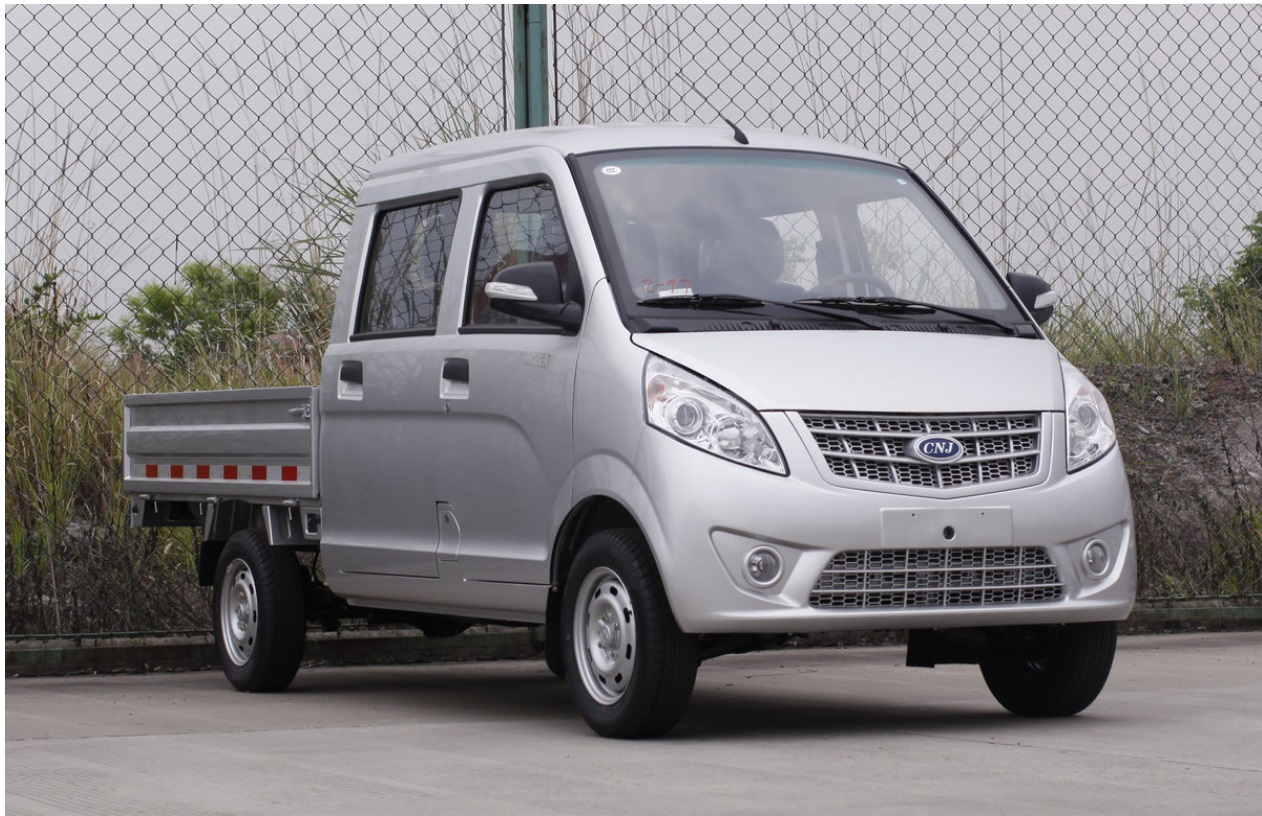truck: (119, 117, 1145, 742)
